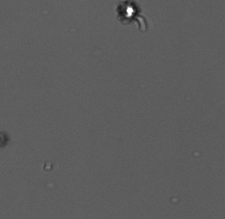Dead Cell: (1, 130, 9, 149)
Living Cell: (117, 1, 139, 26)
